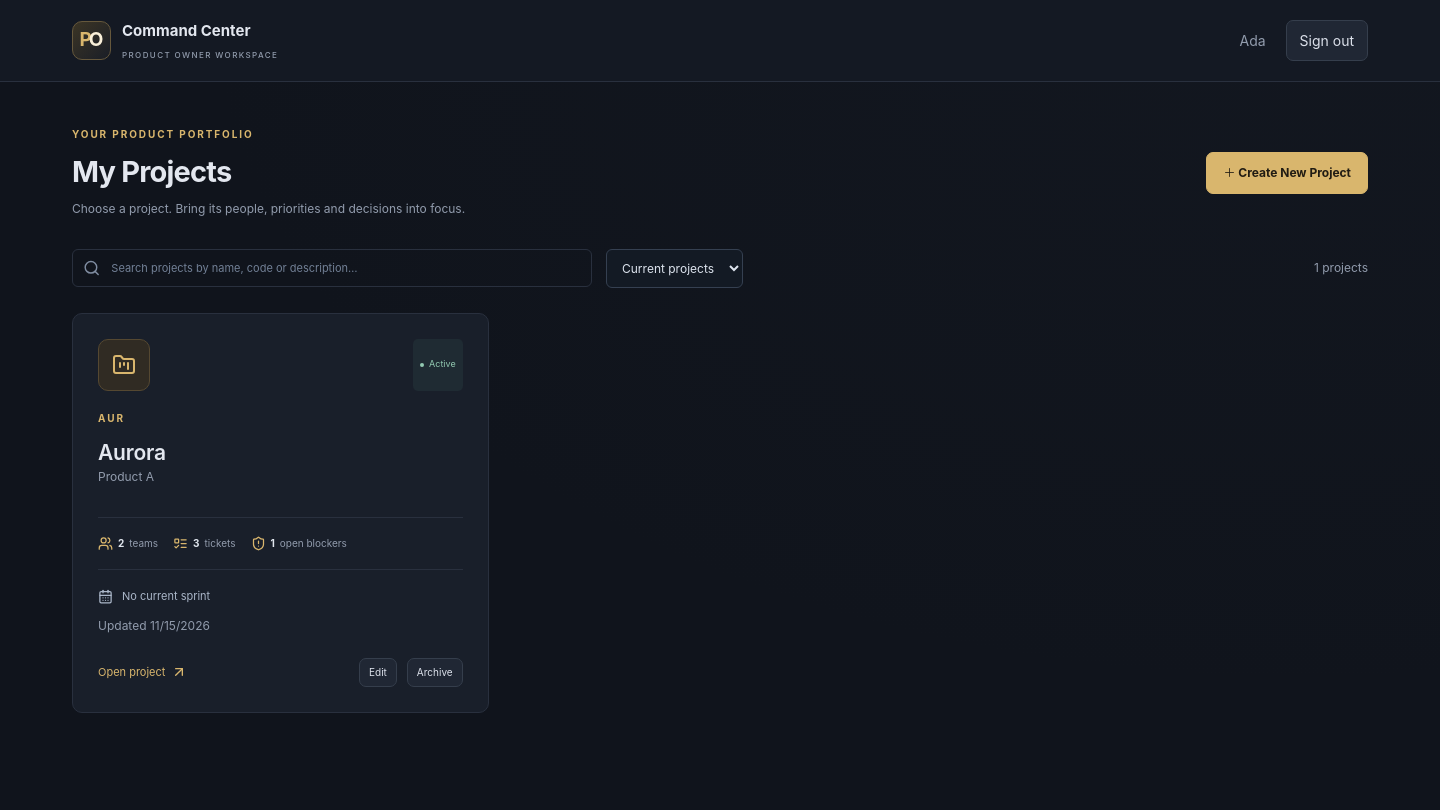
Test: Project and custom team interface › shows project-specific metrics and supports search and archive filtering
Expected: the heading "Aurora" is shown, [98,440,166,465]
Expected: the heading "Archived product" is not shown
In the field labelled "Search projects": (346, 268) [100,250,591,286], type "Missing"
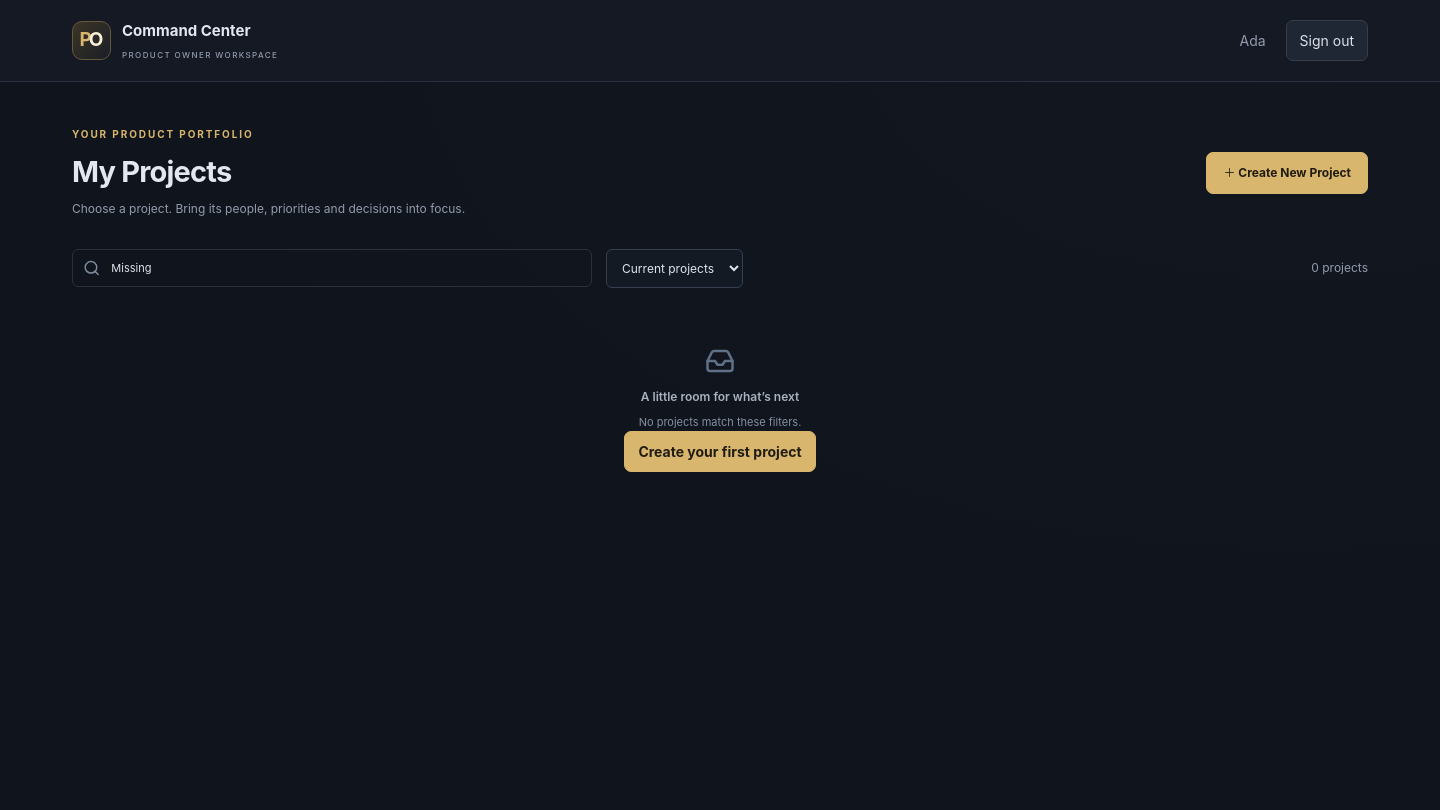
Now the link "Aurora" is gone
Clear the field named "Search projects": (346, 268) [100,250,591,286]
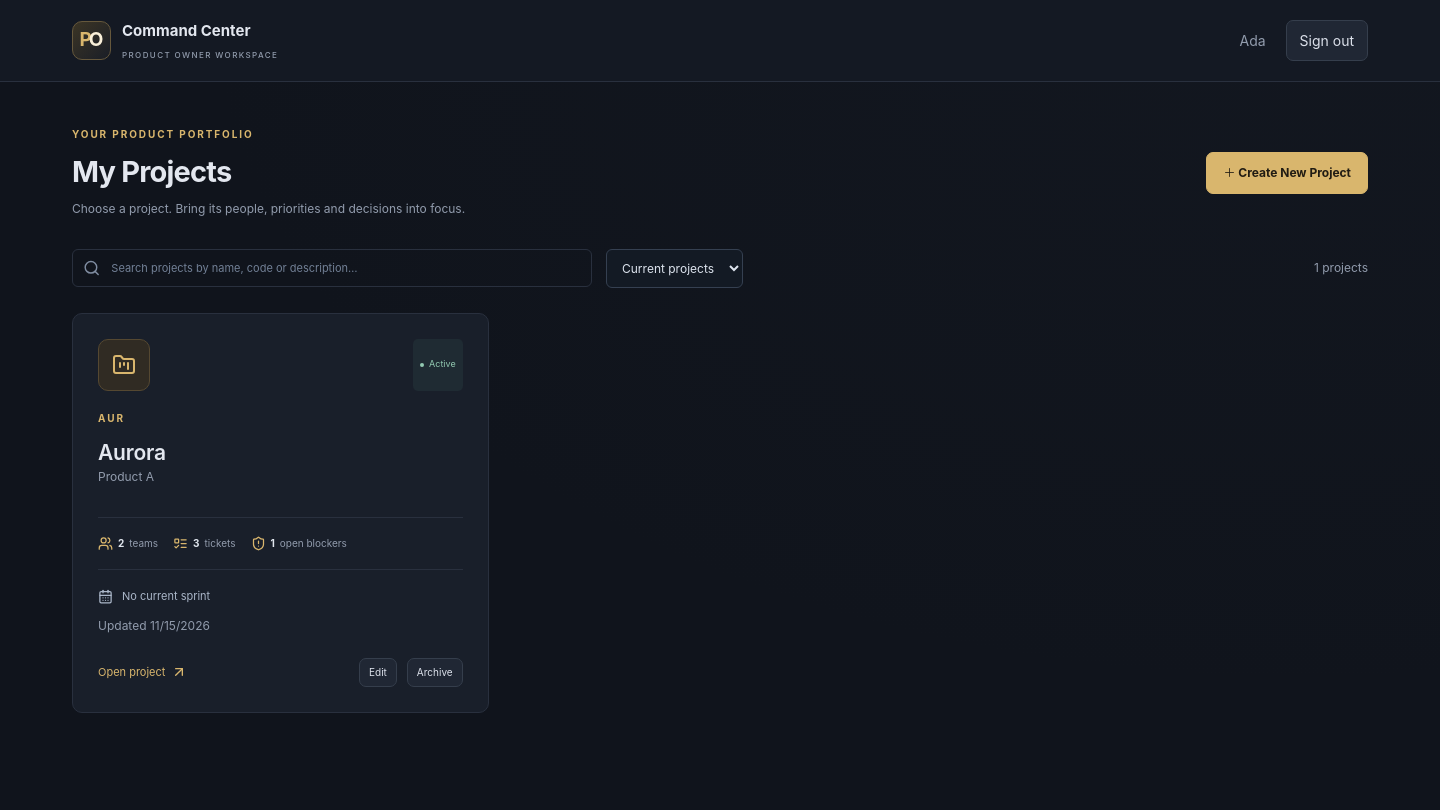
Select "Archived" in the dropdown named "Filter projects by status": (674, 268) [606,249,743,288]
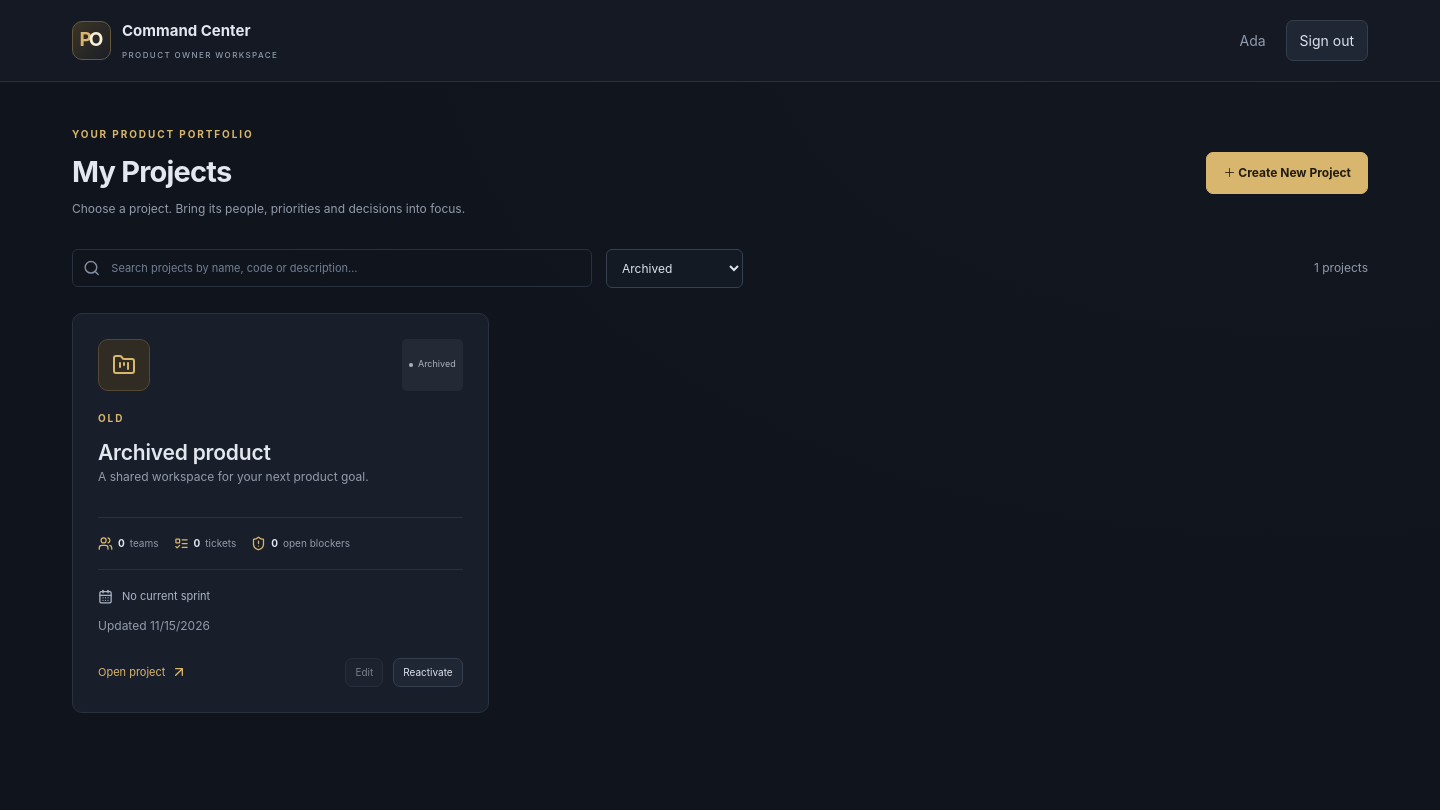
Now the heading "Archived product" is shown, box [98,440,271,465]
